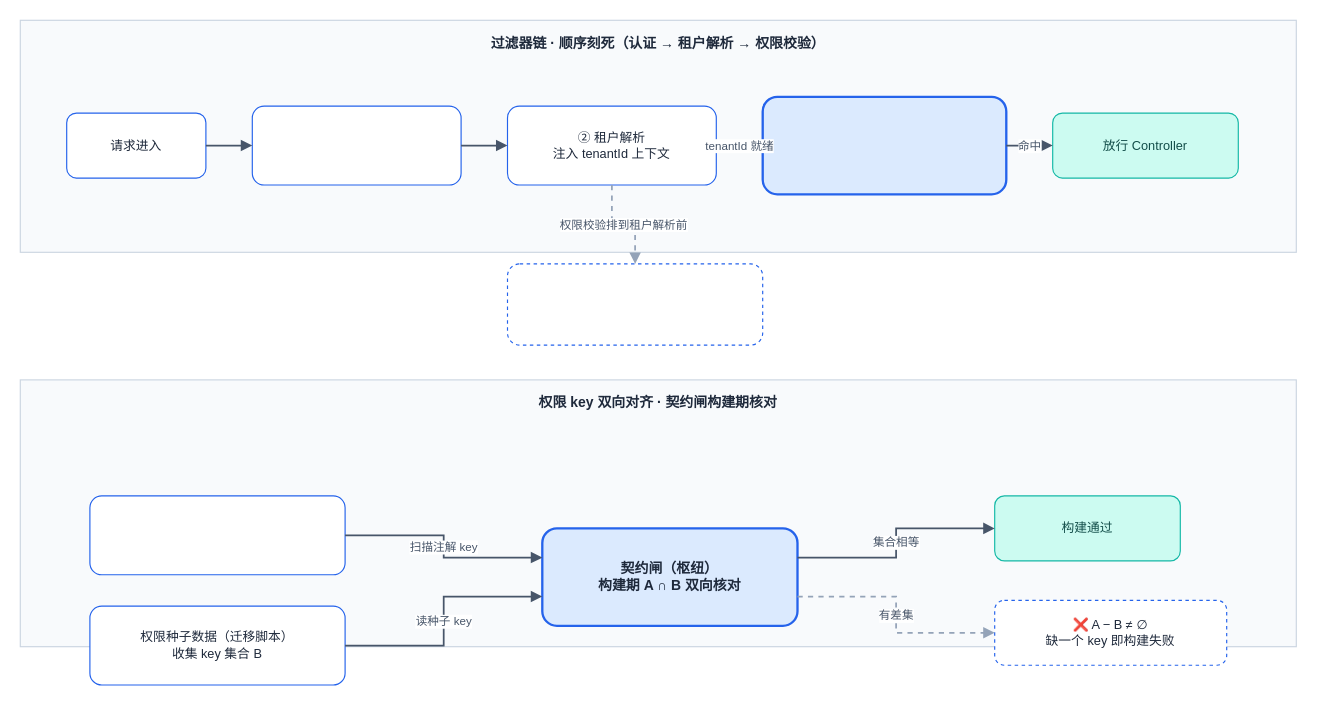
Some shapes in this 1317 by 705 pixel diagram are drawn without their labels. Here are the shapes that lost their labels. From the top down, the centre of each, then its label:
the point at 356,145: ① 认证 校验 token，挂当前用户
the point at 884,145: ③ 权限校验（枢纽） 读 @RequirePermission 按租户查权限表
the point at 634,304: ❌ 顺序错乱 租户上下文为空 → 越权 / 全站不可用
the point at 217,535: 接口 @RequirePermission 收集 key 集合 A
